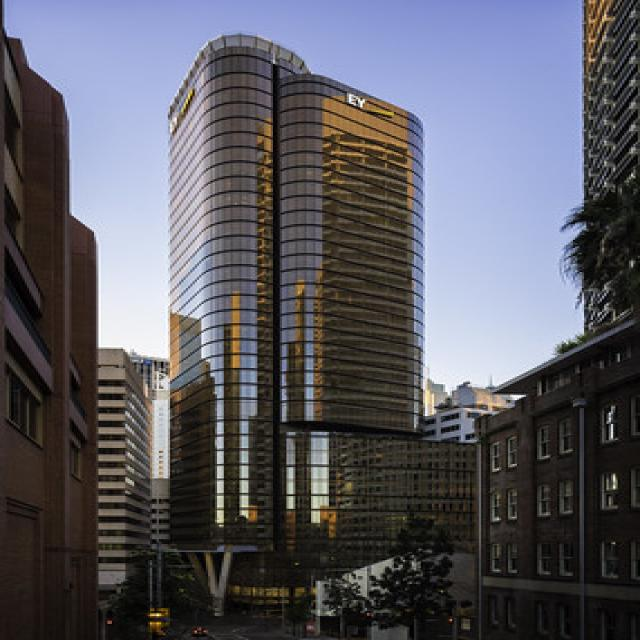building: (156, 24, 438, 640)
